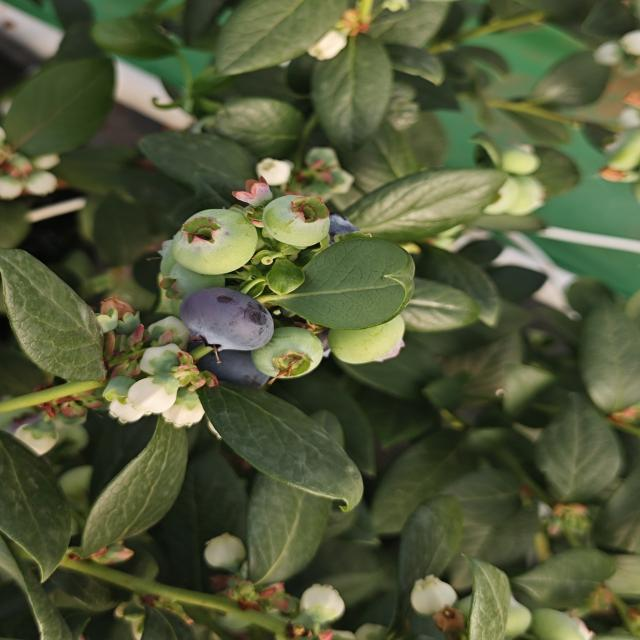ripe: (162, 291, 289, 349), (193, 342, 273, 397), (311, 208, 367, 242)
